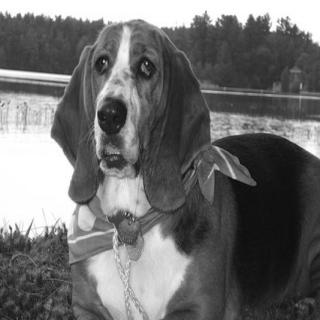dog: (52, 15, 216, 231)
nose: (94, 101, 130, 138)
